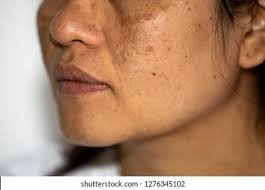Melasma: (49, 3, 190, 64)
